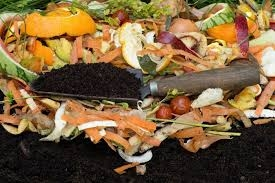kitchen_waste: (62, 104, 160, 155), (33, 58, 145, 98), (20, 7, 102, 39), (118, 20, 150, 74), (204, 20, 267, 46), (226, 83, 272, 116), (1, 108, 41, 138), (167, 14, 206, 42), (231, 9, 252, 57), (167, 92, 194, 113), (152, 104, 172, 123)
